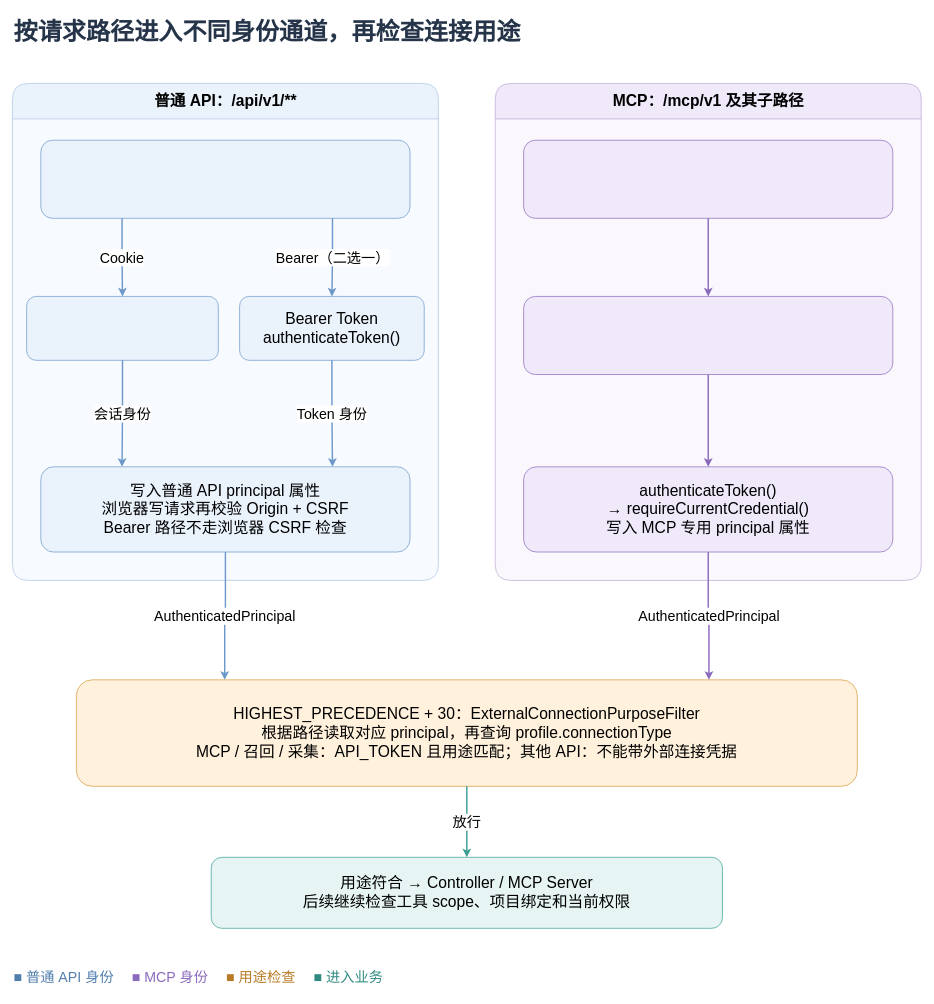
Some shapes in this 934 by 1004 pixel diagram are drawn without their labels. Here are the shapes that lost their labels. From the top down, the centre of each, then its label:
At point 225,179: "HIGHEST_PRECEDENCE + 20 IdentityAuthenticationFilter 公开认证端点跳过此过滤器".
At point 708,179: "HIGHEST_PRECEDENCE + 10 McpAuthenticationFilter 只接受单个 Authorization: Bearer".
At point 122,328: "AUM_SESSION authenticateSession()".
At point 708,335: "拒绝任何 Cookie 检查 UUID.secret 格式与 secret 长度 不读取浏览器会话".
